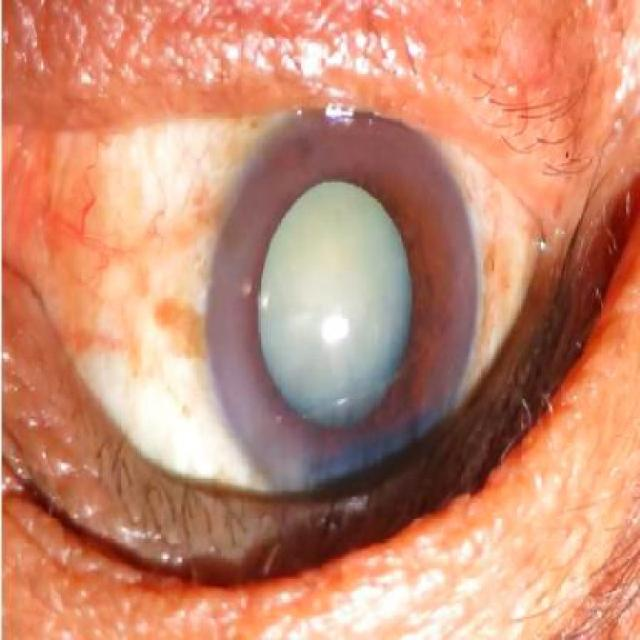Cataract: (208, 113, 477, 515)
